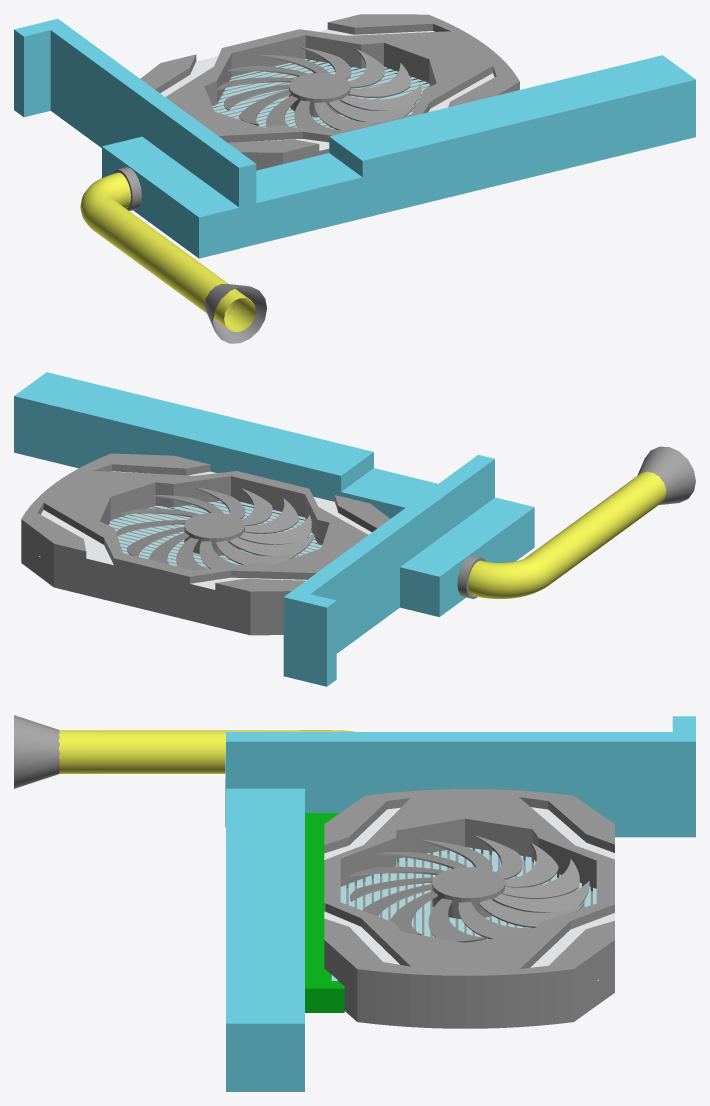
Rendered from GPU1.fbx.
The picture shows the model from 3 angles, top to bottom: view 1: azimuth 30°, elevation 25°; view 2: azimuth 150°, elevation 25°; view 3: azimuth 270°, elevation 25°; orthographic projection. The views are drawn at different scales.
Parts seen in each view (by area): view 1: Mesh54.372, Mesh54.439, Mesh54.353, Mesh54.308, object_5, Mesh54.300, Mesh54.370, Mesh54.501, Mesh54.502, Mesh54.373, Mesh54.374, Mesh54.306 (+24 smaller); view 2: Mesh54.439, Mesh54.353, Mesh54.356, Mesh54.308, Mesh54.457, object_5, Mesh54.357, Mesh54.300, Mesh54.370, Mesh54.501, Mesh54.302, Mesh54.373 (+27 smaller); view 3: Mesh54.301, Mesh54.439, Mesh54.353, object_5, Mesh54.300, Mesh54.361, Mesh54.501, Mesh54.502, Mesh54.339, object_4, Mesh28.026, Mesh54.362 (+44 smaller).
Part boxes in pixels (<box>): Mesh54.372: <box>239,79,695,248</box>; Mesh54.439: <box>140,14,519,152</box>; Mesh54.353: <box>329,55,695,160</box>; Mesh54.308: <box>50,30,238,206</box>; object_5: <box>80,172,255,331</box>; Mesh54.300: <box>204,35,436,108</box>; Mesh54.370: <box>102,136,238,217</box>; Mesh54.501: <box>14,18,255,167</box>; Mesh54.502: <box>256,153,361,202</box>; Mesh54.373: <box>102,147,198,257</box>; Mesh54.374: <box>102,148,198,257</box>; Mesh54.306: <box>24,30,50,117</box>; Mesh54.439: <box>21,453,389,591</box>; Mesh54.353: <box>14,372,373,475</box>; Mesh54.356: <box>14,396,405,518</box>; Mesh54.308: <box>310,459,494,653</box>; Mesh54.457: <box>54,543,250,635</box>; object_5: <box>468,471,666,598</box>; Mesh54.357: <box>14,396,403,515</box>; Mesh54.300: <box>100,476,328,545</box>; Mesh54.370: <box>400,497,534,576</box>; Mesh54.501: <box>284,455,494,607</box>; Mesh54.302: <box>283,597,326,686</box>; Mesh54.373: <box>439,508,534,616</box>; Mesh54.301: <box>226,741,695,837</box>; Mesh54.439: <box>324,789,614,975</box>; Mesh54.353: <box>226,830,304,1023</box>; object_5: <box>58,730,355,773</box>; Mesh54.300: <box>340,818,596,891</box>; Mesh54.361: <box>226,1023,304,1091</box>; Mesh54.501: <box>226,716,695,741</box>; Mesh54.502: <box>226,788,304,830</box>; Mesh54.339: <box>305,813,344,988</box>; object_4: <box>14,715,59,788</box>; Mesh28.026: <box>432,867,505,919</box>; Mesh54.362: <box>226,1024,304,1091</box>.
Bounding box in the file's own units: 3452 × 510 × 3004.
